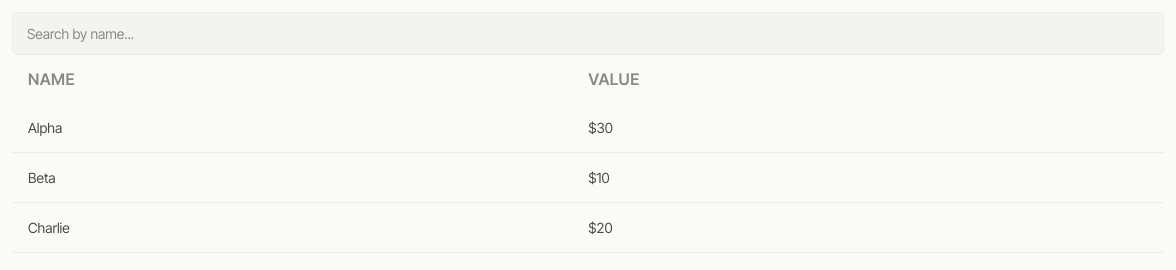
Scenario: DataTable › filters data by text input
This screenshot has width=1176, height=270.
Type "al" into the field with placeholder "Search by name..." at {"x": 588, "y": 34}, box x1=12 y1=12 x2=1164 y2=55
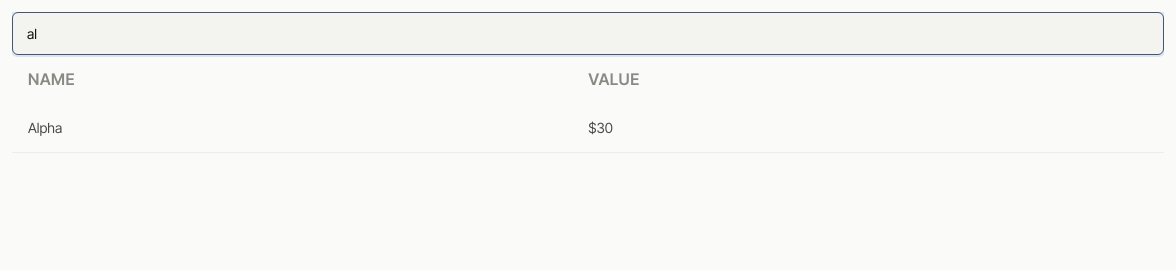
Check: the text "Alpha" is shown, box x1=12 y1=103 x2=572 y2=152
Check: the text "Beta" is gone
Check: the text "Charlie" is gone
